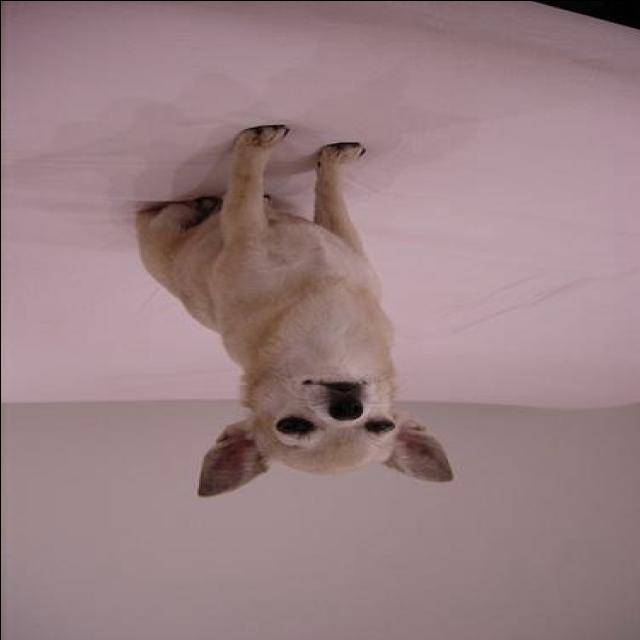chihuahua: (135, 127, 457, 499)
